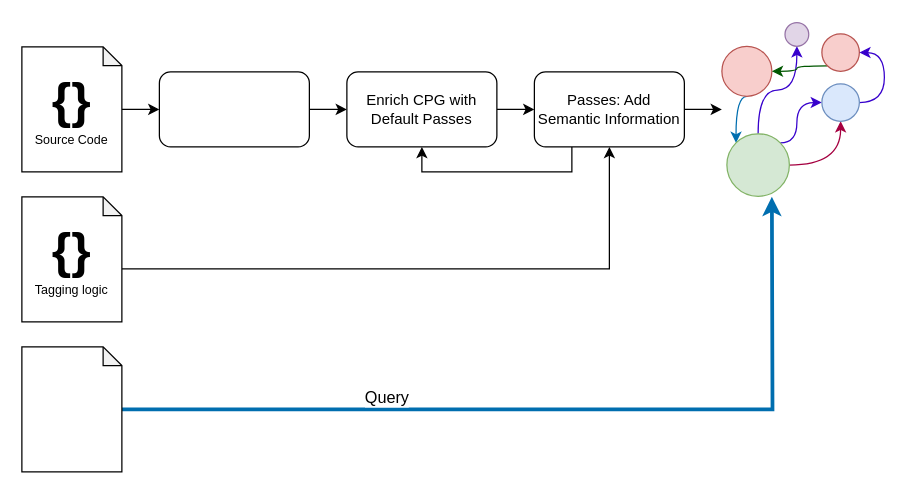
The diagram is 906 pixels wide and 494 high, and some of its shapes have lost their labels. Each missing label, with the centre of its shape:
Parse to generalized Abstract Syntax Tree (AST): point (233, 109)
{} Security goals rules: point (71, 409)
